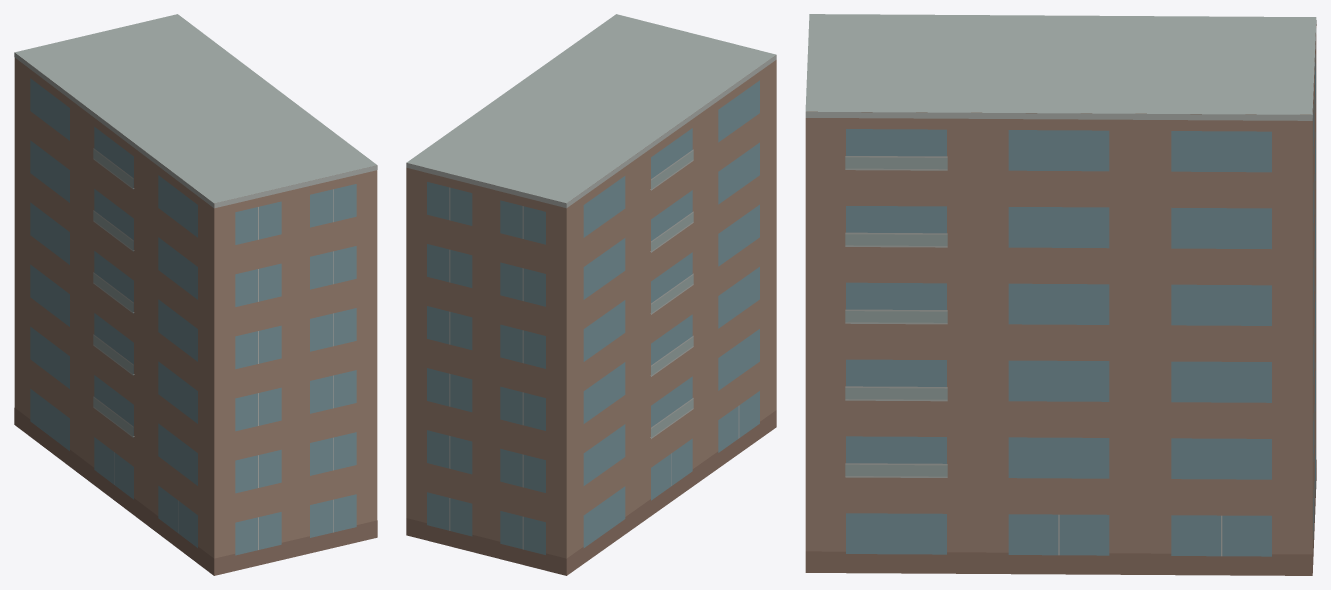
Rendered from survey-upis-32631085.glb.
3 views of the same model, side by side, from view 1: azimuth 30°, elevation 25°; view 2: azimuth 150°, elevation 25°; view 3: azimuth 270°, elevation 25° (orthographic). The views are drawn at different scales.
Parts seen in each view (by area): view 1: survey-upis-32631085.tmp; view 2: survey-upis-32631085.tmp; view 3: survey-upis-32631085.tmp.
Boxes of the visible parts, x1=… form: survey-upis-32631085.tmp: x1=14, y1=14, x2=377, y2=575; survey-upis-32631085.tmp: x1=406, y1=14, x2=776, y2=575; survey-upis-32631085.tmp: x1=805, y1=14, x2=1316, y2=575.
Bounding box in the file's own units: 8.64 × 18.4 × 18.49.
